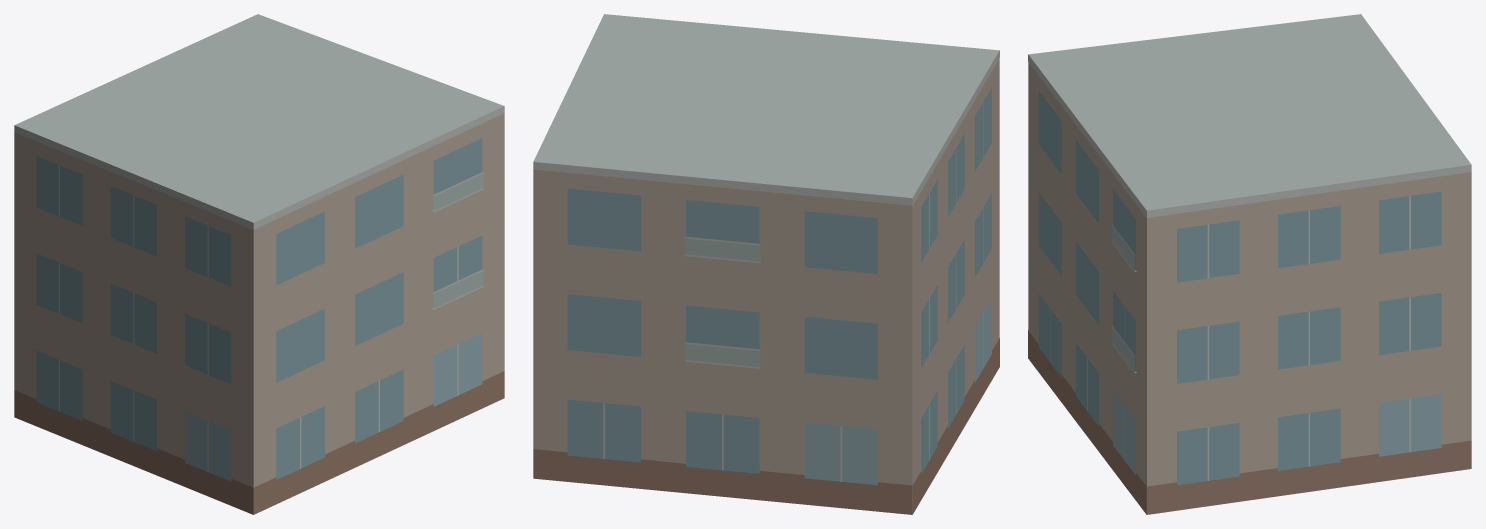
Rendered from survey-upis-32688366.glb.
3 renders of one model, left to right at view 1: azimuth 30°, elevation 25°; view 2: azimuth 150°, elevation 25°; view 3: azimuth 270°, elevation 25°, orthographic. The views are drawn at different scales.
Parts seen in each view (by area): view 1: survey-upis-32688366.tmp; view 2: survey-upis-32688366.tmp; view 3: survey-upis-32688366.tmp.
Part boxes in pixels (left/top/right/bottom): survey-upis-32688366.tmp: left=14, top=14, right=504, bottom=514; survey-upis-32688366.tmp: left=533, top=14, right=999, bottom=514; survey-upis-32688366.tmp: left=1028, top=14, right=1471, bottom=514.
Size of the model in its own units: 14.03 by 10.1 by 13.36.
